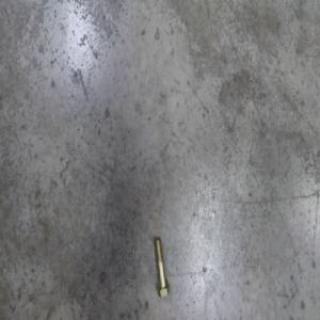Bolttrack_idkeyframe: (152, 236, 170, 297)
